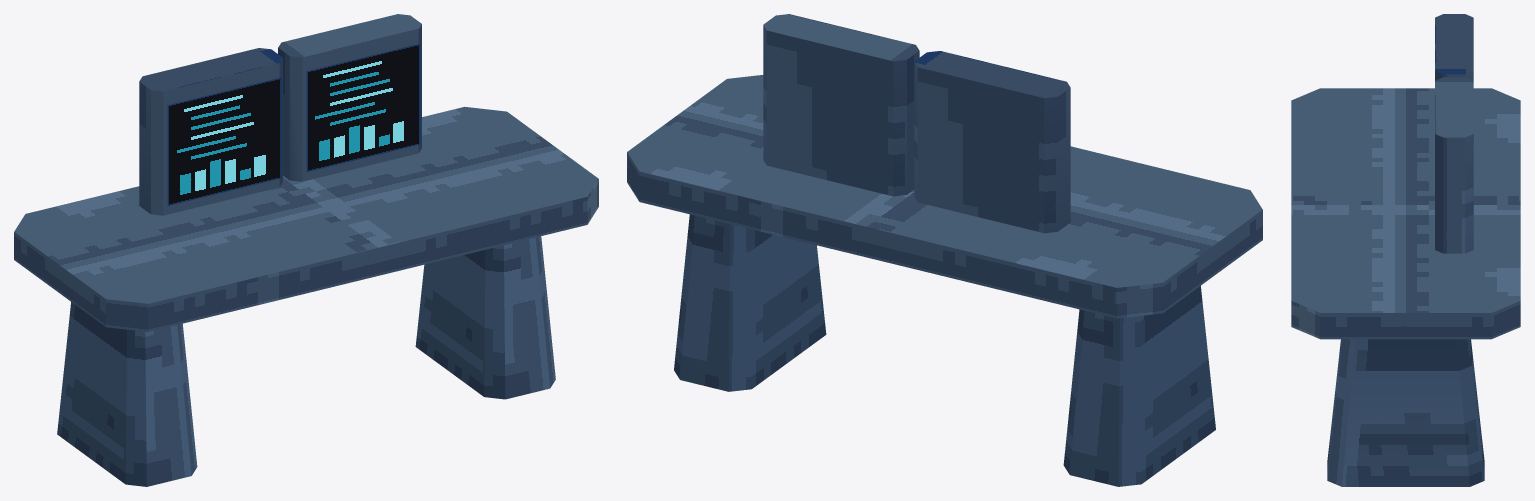
File: cyroom.desk.glb
3 views of the same model, side by side, from view 1: azimuth 30°, elevation 25°; view 2: azimuth 150°, elevation 25°; view 3: azimuth 270°, elevation 25° (orthographic). The views are drawn at different scales.
Parts seen in each view (by area): view 1: kit_body, kit_card_details; view 2: kit_body; view 3: kit_body.
Boxes of the visible parts, x1,y1,x2,y2 form: kit_body: (14,14,598,486); kit_card_details: (167,43,420,205); kit_body: (627,14,1262,486); kit_body: (1291,14,1520,486).
Bounding box in the file's own units: 2.2 × 1.43 × 0.95.
4 materials, 4 textured.
